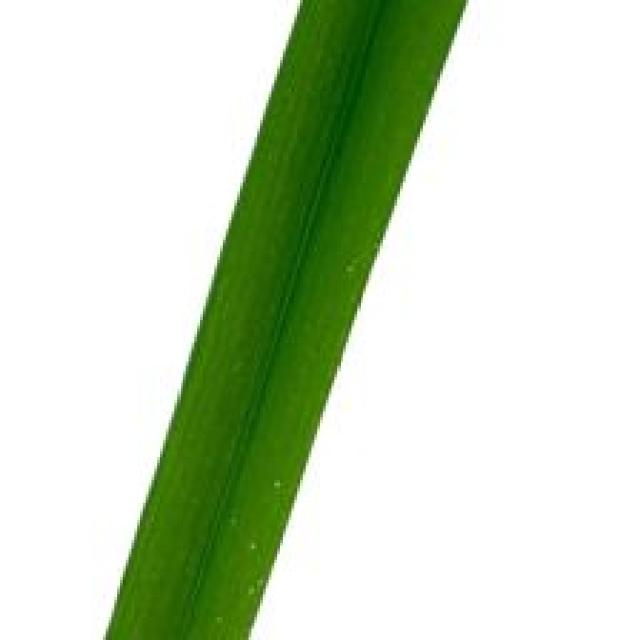Rice___Healthy_Rice_Plant: (104, 0, 468, 637)
